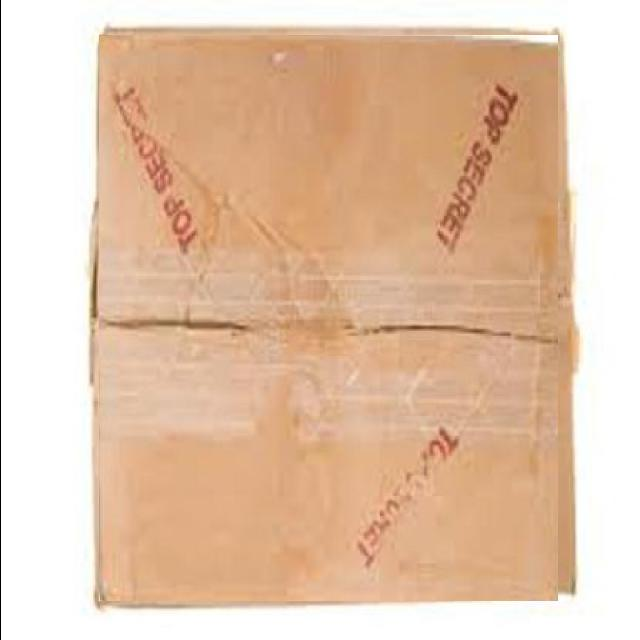normal: (98, 36, 557, 602)
